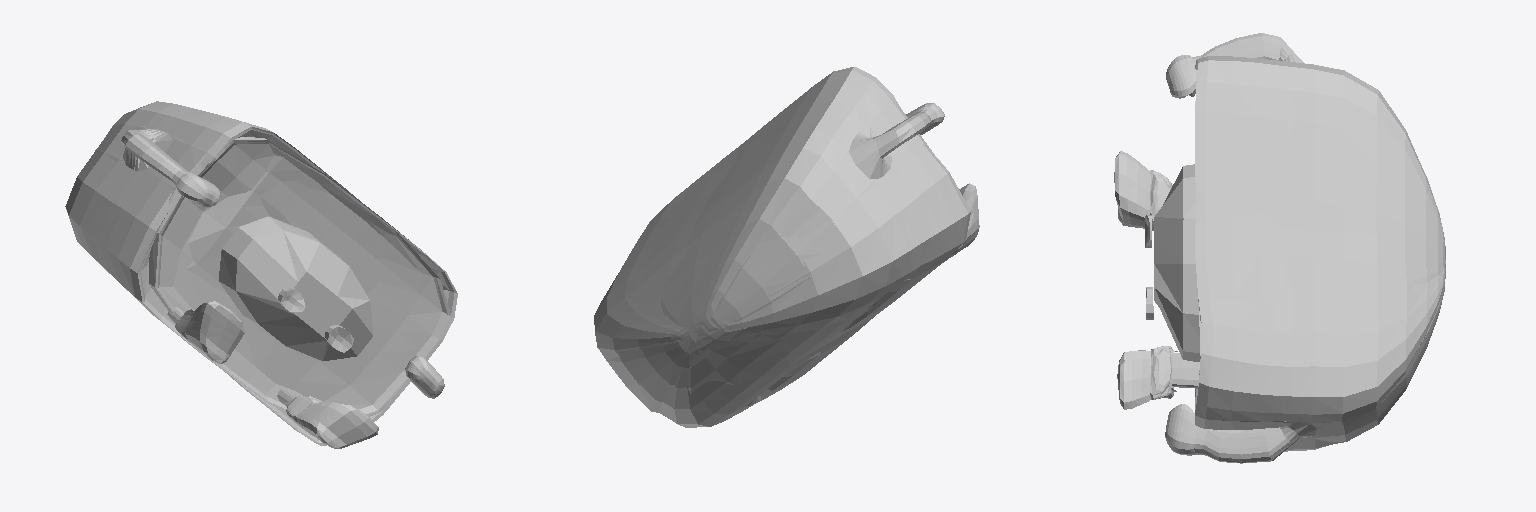
File: Pal_000012.obj
The picture shows the model from 3 angles: view 1: azimuth 30°, elevation 25°; view 2: azimuth 150°, elevation 25°; view 3: azimuth 270°, elevation 25°; orthographic projection.
Parts seen in each view (by area): view 1: Cuerpo_de_aguacate_3.001_Cube.002, Hueso_Cubo.003, Ojos_Cubo.002; view 2: Cuerpo_de_aguacate_3.001_Cube.002; view 3: Cuerpo_de_aguacate_3.001_Cube.002, Hueso_Cubo.003.
Part boxes in pixels (left/top/right/bottom): Cuerpo_de_aguacate_3.001_Cube.002: left=65, top=101, right=457, bottom=448; Hueso_Cubo.003: left=219, top=216, right=372, bottom=360; Ojos_Cubo.002: left=278, top=286, right=353, bottom=352; Cuerpo_de_aguacate_3.001_Cube.002: left=594, top=67, right=979, bottom=427; Cuerpo_de_aguacate_3.001_Cube.002: left=1114, top=33, right=1445, bottom=463; Hueso_Cubo.003: left=1154, top=164, right=1199, bottom=361.
Bounding box in the file's own units: 1.15 × 1.15 × 1.01.